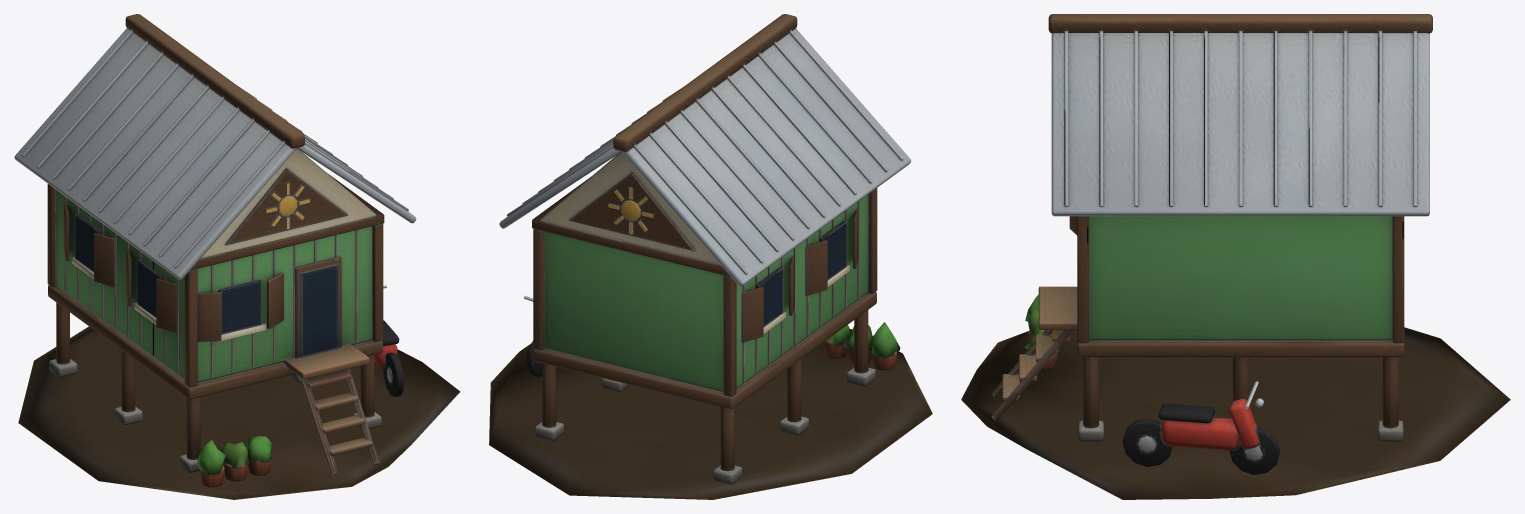
The model's file is aceh_house_d.glb.
3 renders of one model, left to right at view 1: azimuth 30°, elevation 25°; view 2: azimuth 150°, elevation 25°; view 3: azimuth 270°, elevation 25°, orthographic. The views are drawn at different scales.
Visible parts, largest first — view 1: aceh_house_d; view 2: aceh_house_d; view 3: aceh_house_d.
Boxes of the visible parts, box(x1,y1,x2,y2) form: aceh_house_d: box(14, 14, 460, 499); aceh_house_d: box(489, 14, 932, 499); aceh_house_d: box(961, 14, 1510, 499).
Bounding box in the file's own units: 4.9 × 4.2 × 5.58.
Materials: 1 (1 with a texture image).
